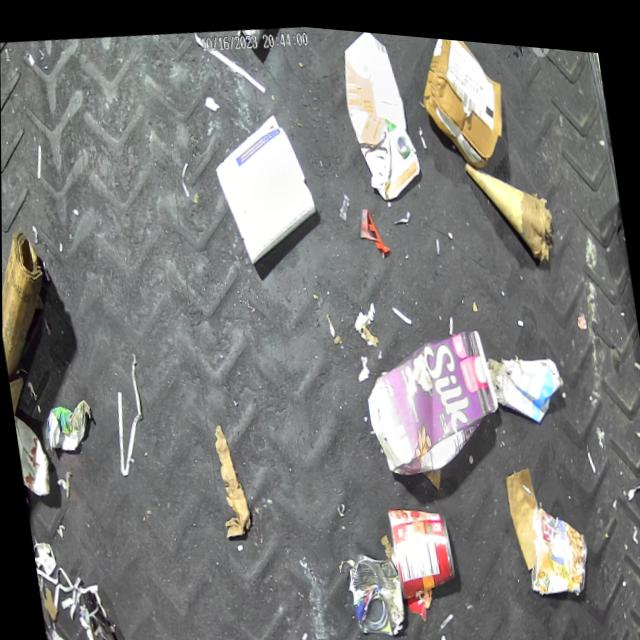can: (384, 491, 458, 596), (518, 489, 592, 591), (341, 538, 407, 635), (12, 409, 51, 502)
non_white_jug: (357, 310, 507, 482), (336, 23, 425, 197)
